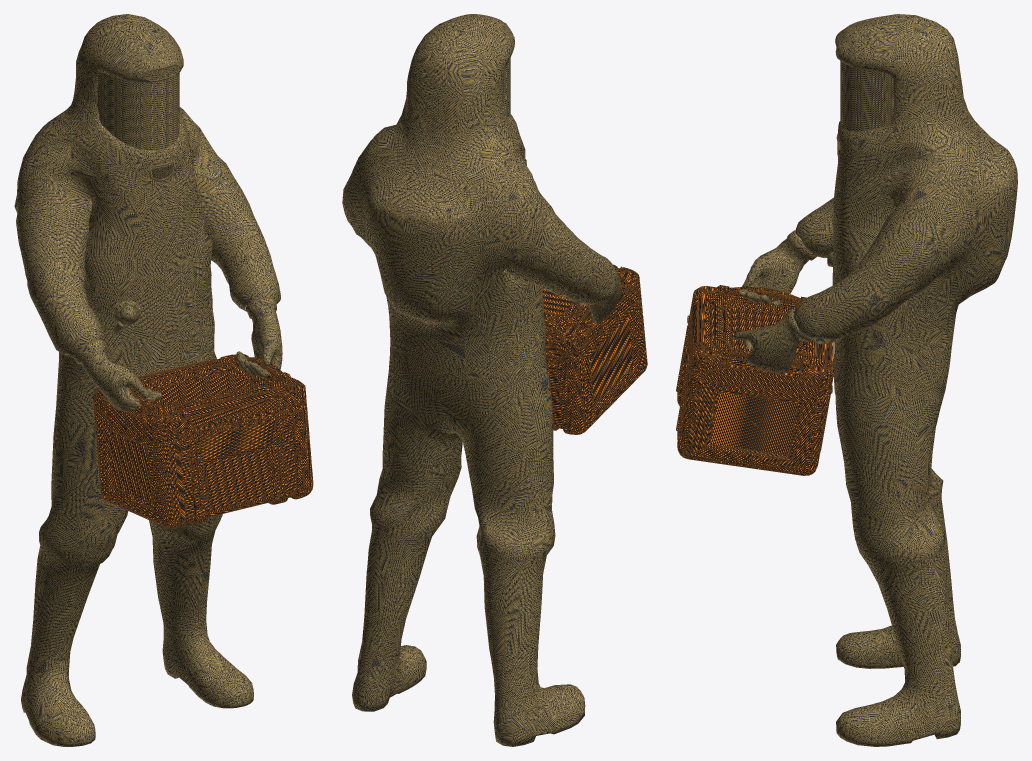
File: Neoflycargo_biohazardsuit_01.gltf
3 views of the same model, side by side, from view 1: azimuth 30°, elevation 25°; view 2: azimuth 150°, elevation 25°; view 3: azimuth 270°, elevation 25° (orthographic).
Visible parts, largest first — view 1: biohazard_suit_lod0.001, Sci-Fi_Case.005; view 2: biohazard_suit_lod0.001, Sci-Fi_Case.005; view 3: biohazard_suit_lod0.001, Sci-Fi_Case.005.
Boxes of the visible parts, left/top/right/bottom form: biohazard_suit_lod0.001: left=14, top=14, right=282, bottom=746; Sci-Fi_Case.005: left=92, top=354, right=313, bottom=528; biohazard_suit_lod0.001: left=342, top=14, right=621, bottom=746; Sci-Fi_Case.005: left=542, top=264, right=647, bottom=434; biohazard_suit_lod0.001: left=733, top=14, right=1017, bottom=746; Sci-Fi_Case.005: left=676, top=285, right=833, bottom=475.
Size of what is drawn, in the model's own units: 0.6517 by 1.87 by 0.8529.
